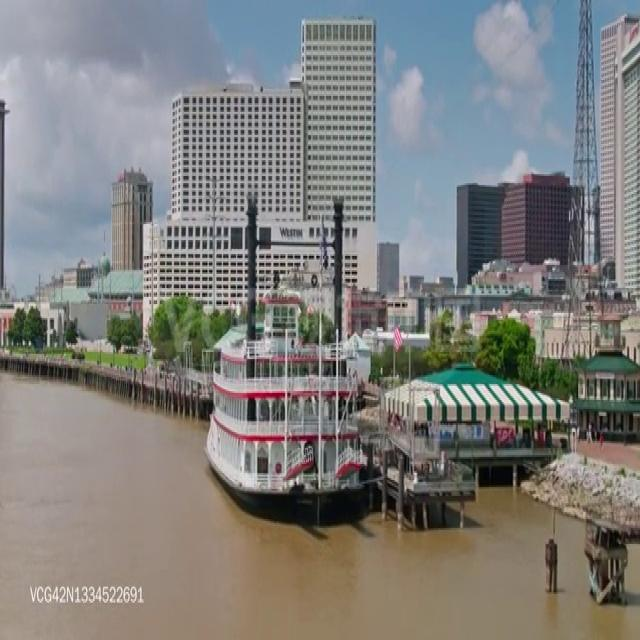passenger ship: (208, 288, 377, 514)
